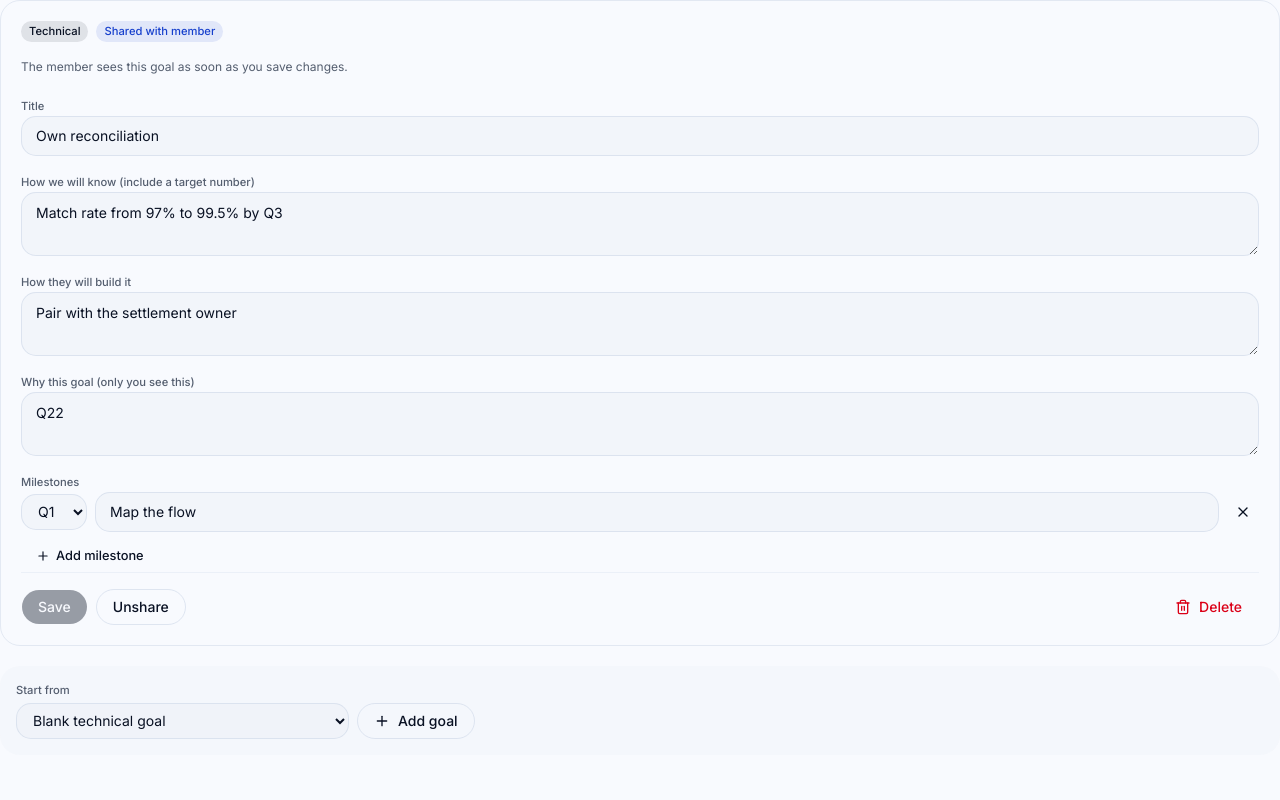
Test case: GoalEditor: sharing › can take a shared goal back to a private draft
Click the button "Unshare". click: (141, 607)
box: [96,589,186,625]
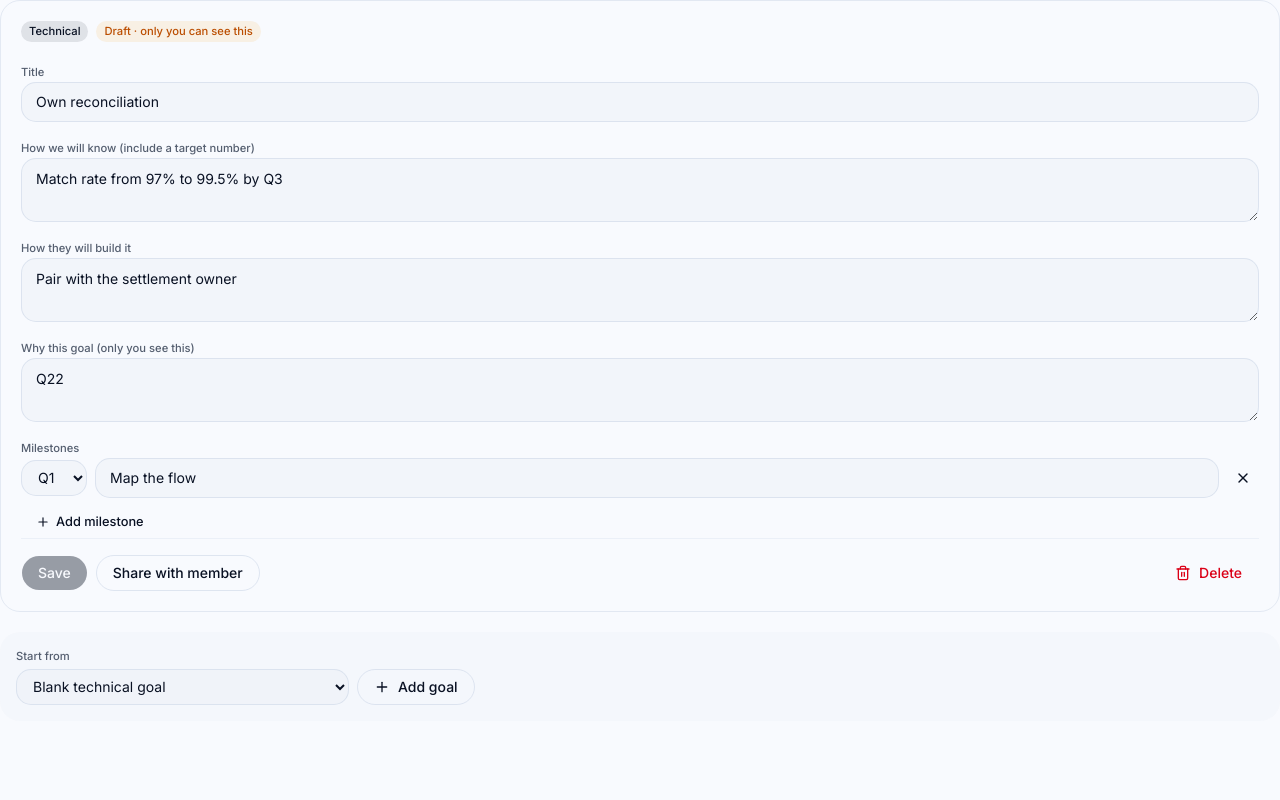
Expected: the text "Draft · only you can see this" is shown, [96,21,261,42]
